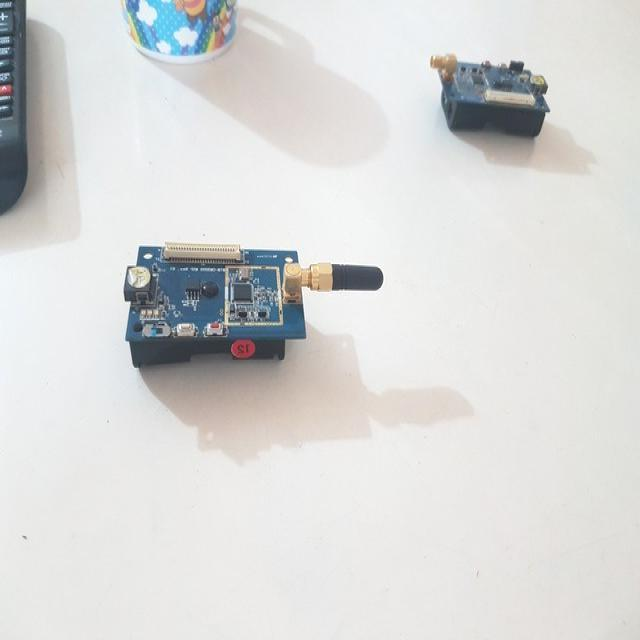TelosB: (125, 243, 384, 368), (432, 54, 550, 137)
